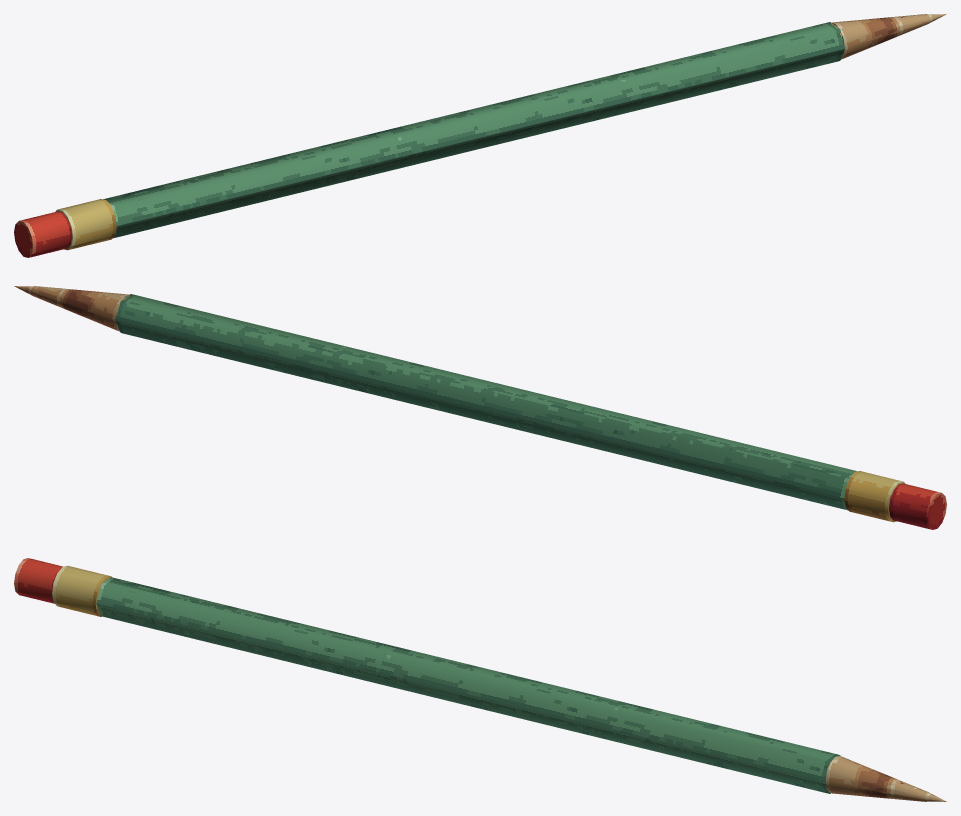
File: pencil.glb
3 views of the same model, one above another, from view 1: azimuth 30°, elevation 25°; view 2: azimuth 150°, elevation 25°; view 3: azimuth 330°, elevation 25° (orthographic).
Visible parts, largest first — view 1: mesh; view 2: mesh; view 3: mesh.
Boxes of the visible parts, x1,y1,x2,y2 form: mesh: (14, 14, 946, 257); mesh: (14, 286, 946, 529); mesh: (14, 558, 946, 801).
Size of the model in its own units: 0.1827 by 0.0072 by 0.0072.
1 material, 1 textured.
